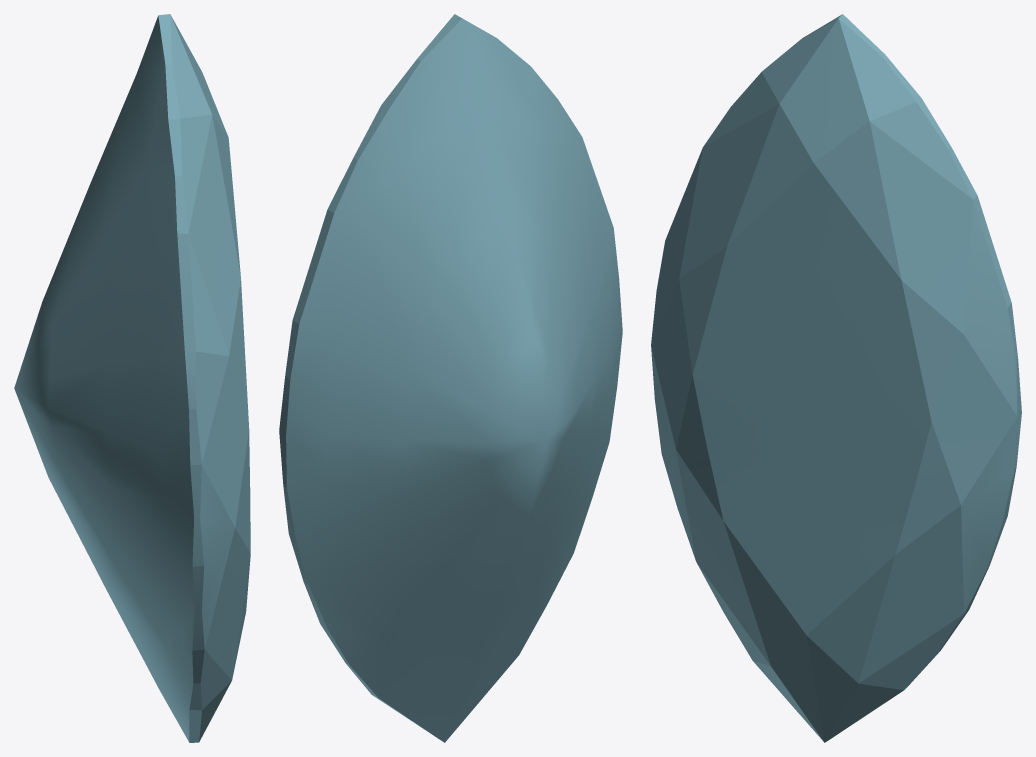
Rendered from BR5_8shapes_Marquise_Classic_Stone.001 2.glb.
The picture shows the model from 3 angles, left to right: view 1: azimuth 30°, elevation 25°; view 2: azimuth 150°, elevation 25°; view 3: azimuth 270°, elevation 25°; orthographic projection. The views are drawn at different scales.
Parts seen in each view (by area): view 1: BR5_8shapes_Marquise_Classic_Stone.001; view 2: BR5_8shapes_Marquise_Classic_Stone.001; view 3: BR5_8shapes_Marquise_Classic_Stone.001.
Part boxes in pixels (x1,y1,x2,y2): BR5_8shapes_Marquise_Classic_Stone.001: (14,14,250,742); BR5_8shapes_Marquise_Classic_Stone.001: (279,14,622,742); BR5_8shapes_Marquise_Classic_Stone.001: (651,14,1021,742).
Size of the model in its own units: 0.2033 by 0.6321 by 0.2974.
